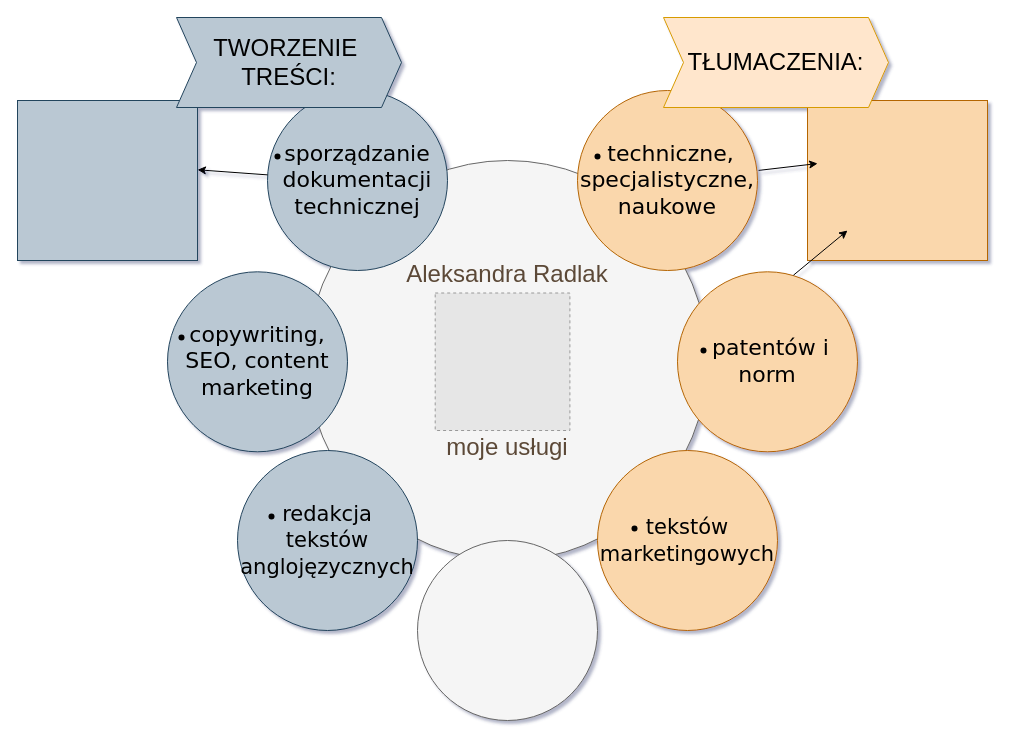
The diagram is 1011 pixels wide and 744 high, and some of its shapes have lost their labels. Grey dashed boxes stand in for pictures. The centre of each missing label's shape, as x and y in pixels:
Obsługuję m.in.: Oxygen GitHub Posługuję się: markdown language DITA XML: pixel 107 180
przekłady literackie: pixel 507 630
Wymagasz narzędzi CAT? Obsługuję: SDL Trados Studio Memsource MemoQ OmegaT: pixel 897 180
